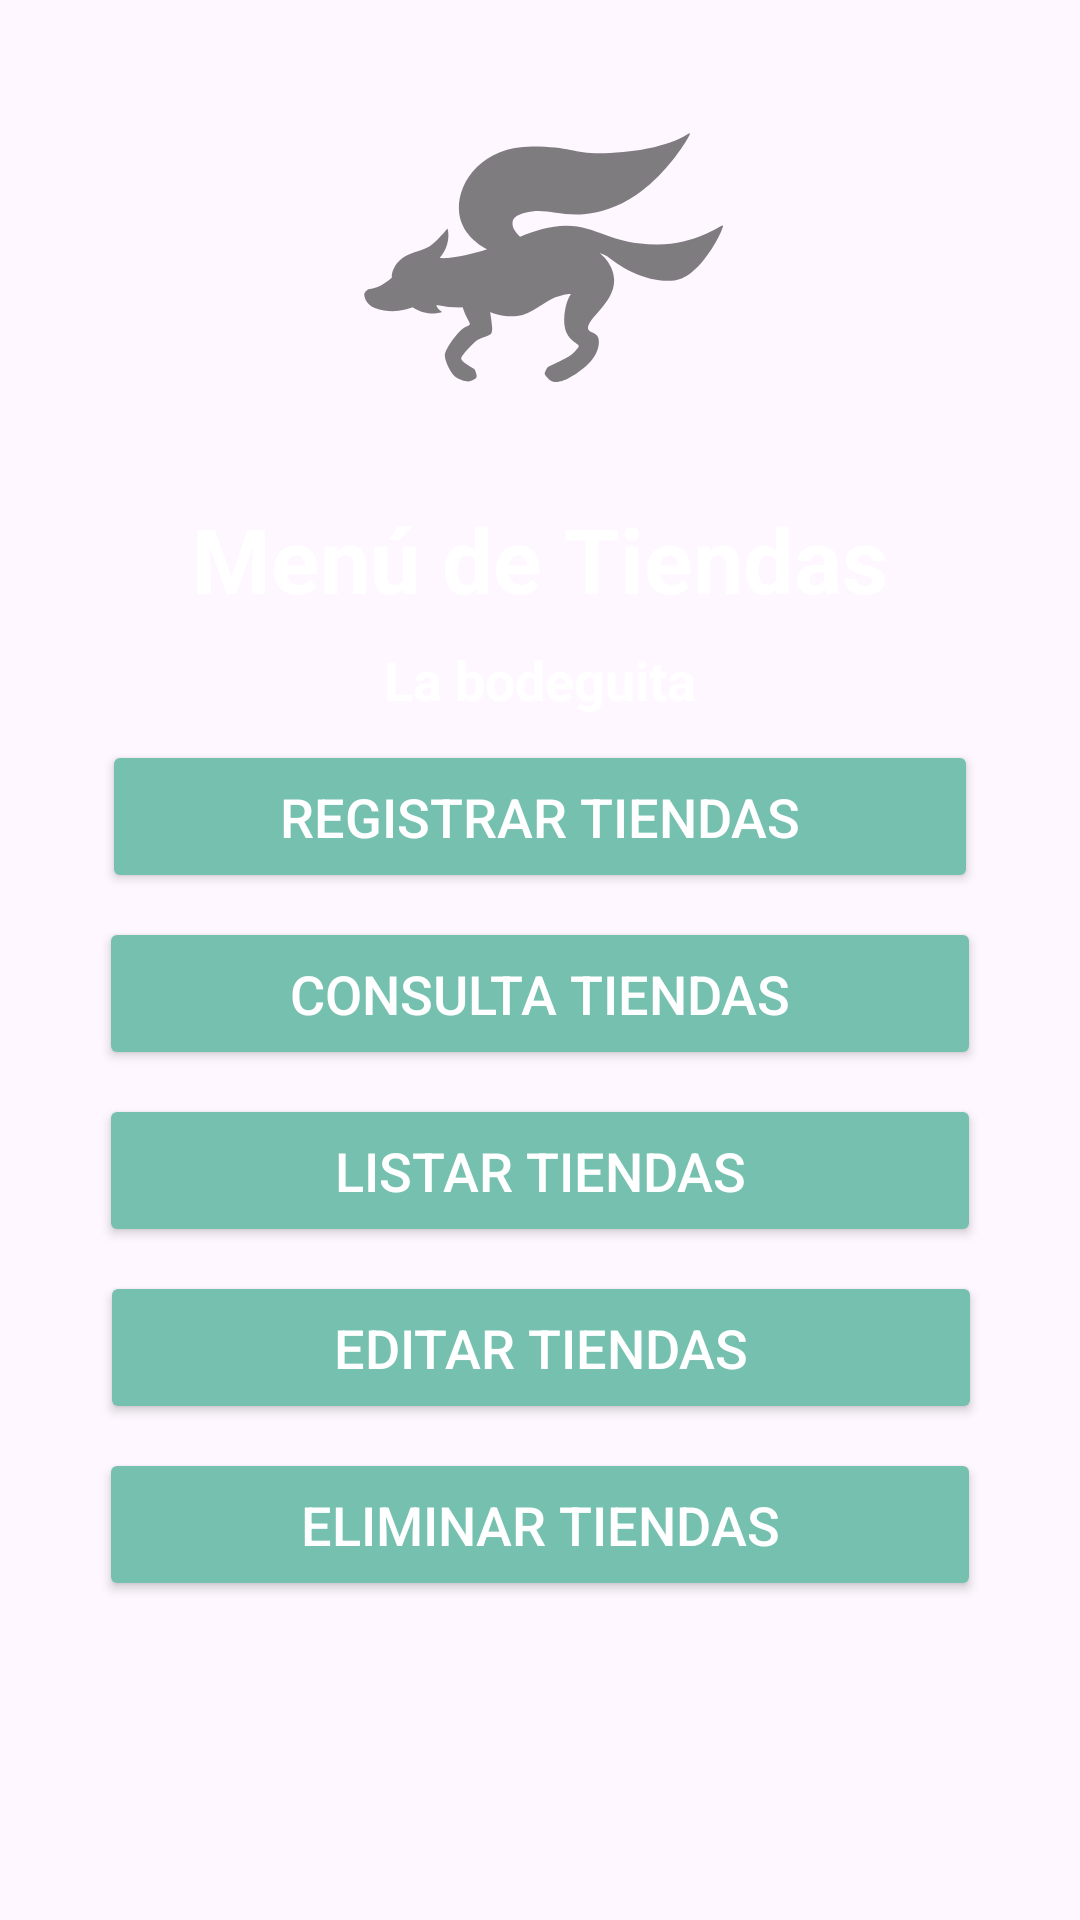

Where icons sit on this 1080*1920 app screen, as [x1, y1, x2, y2]:
fox: [364, 133, 723, 382]
